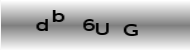6: (81, 18, 95, 31)
G: (123, 23, 138, 37)
U: (94, 22, 109, 35)
b: (51, 9, 65, 24)
d: (35, 18, 50, 32)
